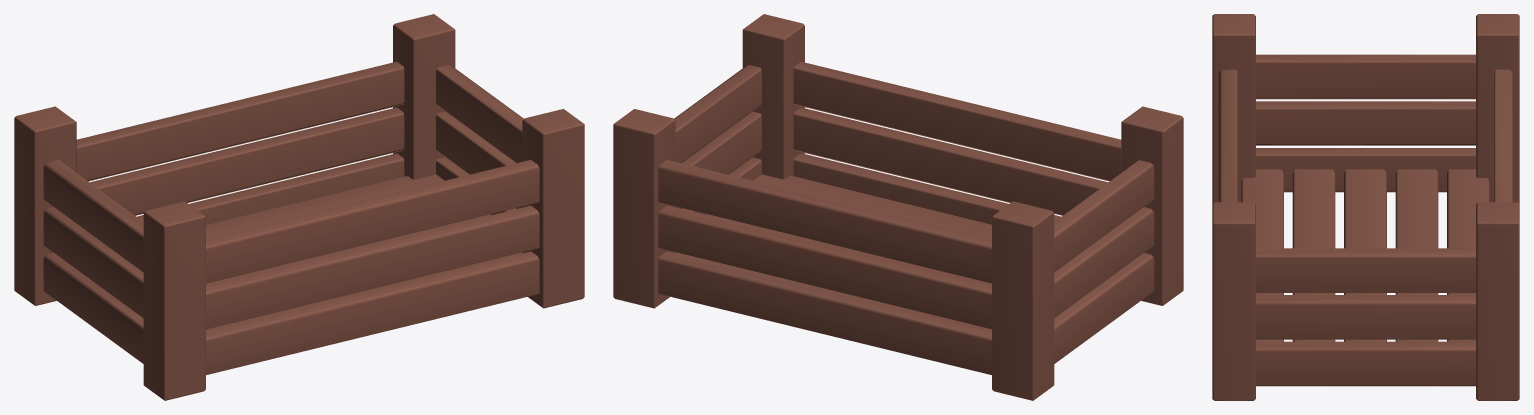
Rendered from Store_10_Box_3.glb.
3 renders of one model, left to right at view 1: azimuth 30°, elevation 25°; view 2: azimuth 150°, elevation 25°; view 3: azimuth 270°, elevation 25°, orthographic.
Visible parts, largest first — view 1: Store_10_Box_3; view 2: Store_10_Box_3; view 3: Store_10_Box_3.
Boxes of the visible parts, box(x1,y1,x2,y2) form: Store_10_Box_3: box(14, 14, 584, 400); Store_10_Box_3: box(613, 14, 1183, 400); Store_10_Box_3: box(1212, 14, 1519, 400).
Size of the model in its own units: 0.7713 by 0.3076 by 0.4783.
1 material, 1 textured.
